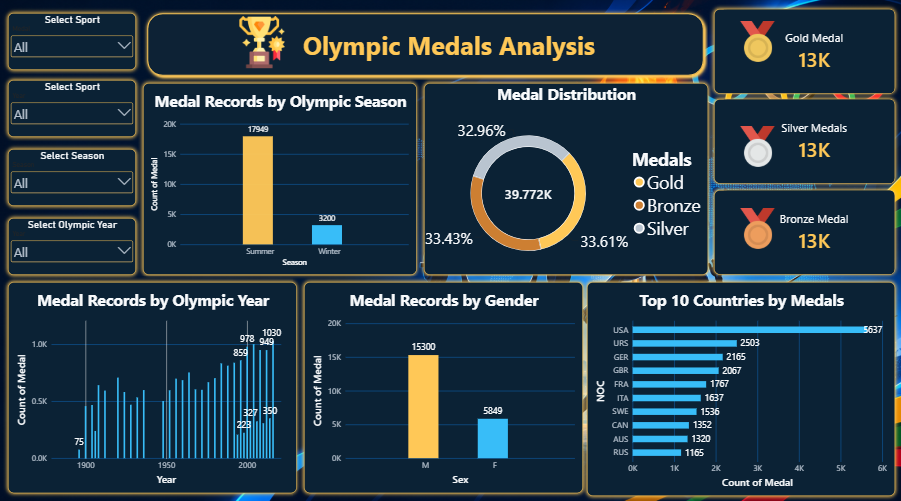

The page's visual inventory and layout, read from the dashboard file:
{"tool":"powerbi","page":{"name":"Medals","canvas":[1920,1080],"ordinal":1},"visuals":[{"type":"cardVisual","fields":{"Data":["athlete_events.Gold Medal"]},"box":[1518,25.5,384.8,180],"z":0},{"type":"cardVisual","fields":{"Data":["athlete_events.Silver Medals"]},"box":[1518,217,384.8,180],"z":1000},{"type":"cardVisual","fields":{"Data":["athlete_events.Bronze Medal"]},"box":[1518,410.3,384.8,180],"z":2000},{"type":"donutChart","title":"Medal Distribution","fields":{"Category":["athlete_events.Medal"],"Y":["CountNonNull(athlete_events.Medal)"]},"box":[901.4,182.8,603.8,408.2],"z":3000},{"type":"clusteredBarChart","title":"Top 10 Countries by Medals","fields":{"Category":["country_definitions.NOC"],"Y":["CountNonNull(athlete_events.Medal)"]},"box":[1248,605.9,654.8,455],"z":4000},{"type":"clusteredColumnChart","title":"Medal Records by Olympic Season","fields":{"Category":["athlete_events.Season"],"Y":["CountNonNull(athlete_events.Medal)"]},"box":[304,182.8,582,408.2],"z":5000},{"type":"clusteredColumnChart","title":"Medal Records by Olympic  Year","fields":{"Category":["athlete_events.Year"],"Y":["CountNonNull(athlete_events.Medal)"]},"box":[17,605.9,614.4,448.6],"z":6000},{"type":"clusteredColumnChart","title":"Medal Records by Gender","fields":{"Category":["athlete_events.Sex"],"Y":["CountNonNull(athlete_events.Medal)"]},"box":[646,605.9,593,448.6],"z":7000},{"type":"slicer","title":"Select Olympic Year","fields":{"Values":["athlete_events.Year"]},"box":[17,469.8,272.1,121.2],"z":8000},{"type":"slicer","title":"Select Season","fields":{"Values":["athlete_events.Season"]},"box":[17,323,272.1,121.2],"z":9000},{"type":"slicer","title":"Select Sport","fields":{"Values":["athlete_events.Year"]},"box":[17,176.5,272.1,121.2],"z":10000},{"type":"image","box":[1549.8,51,121.2,87.2],"z":11000},{"type":"image","box":[1549.8,274.3,121.2,87.2],"z":12000},{"type":"image","box":[1549.8,448.6,121.2,87],"z":13000},{"type":"slicer","title":"Select Sport","fields":{"Values":["athlete_events.Medal"]},"box":[17,34,272.1,121.2],"z":14000},{"type":"shape","box":[304,25.5,1201.2,150.9],"z":15000},{"type":"image","box":[482.6,40.4,148.8,110.6],"z":16000}]}

Visuals, with their boxes in screenshot pixels (x1, y1, x2, y2), scaled from the page's 1920x1080 canvas onto the 901x501 screenshot:
cardVisual - athlete_events.Gold Medal: bbox=[712, 12, 893, 95]
cardVisual - athlete_events.Silver Medals: bbox=[712, 101, 893, 184]
cardVisual - athlete_events.Bronze Medal: bbox=[712, 190, 893, 274]
"Medal Distribution" donutChart: bbox=[423, 85, 706, 274]
"Top 10 Countries by Medals" clusteredBarChart: bbox=[586, 281, 893, 492]
"Medal Records by Olympic Season" clusteredColumnChart: bbox=[143, 85, 416, 274]
"Medal Records by Olympic  Year" clusteredColumnChart: bbox=[8, 281, 296, 489]
"Medal Records by Gender" clusteredColumnChart: bbox=[303, 281, 581, 489]
"Select Olympic Year" slicer: bbox=[8, 218, 136, 274]
"Select Season" slicer: bbox=[8, 150, 136, 206]
"Select Sport" slicer: bbox=[8, 82, 136, 138]
image: bbox=[727, 24, 784, 64]
image: bbox=[727, 127, 784, 168]
image: bbox=[727, 208, 784, 248]
"Select Sport" slicer: bbox=[8, 16, 136, 72]
shape: bbox=[143, 12, 706, 82]
image: bbox=[226, 19, 296, 70]
